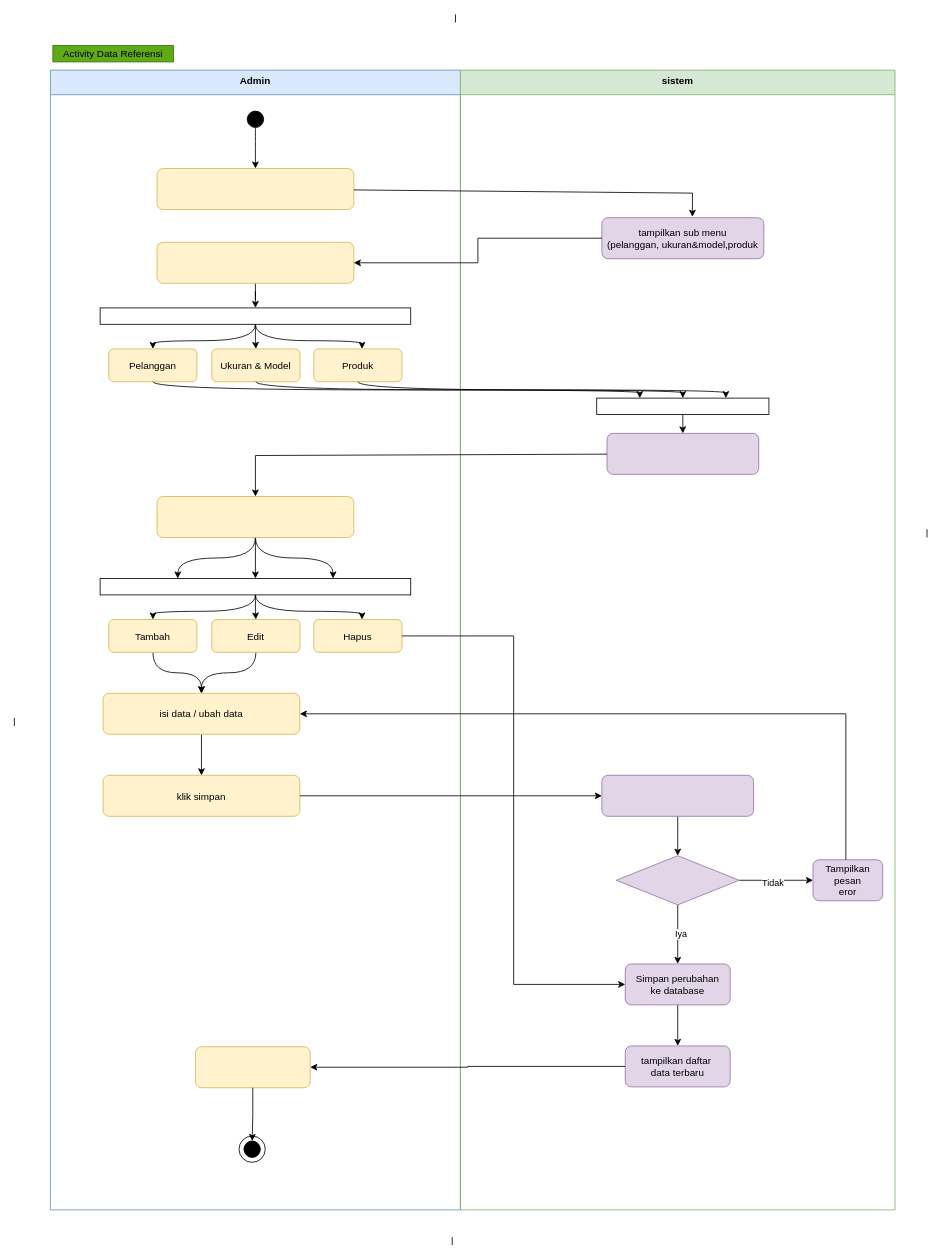
Some shapes in this 942 by 1260 pixel diagram are drawn without their labels. The shapes that lost their labels are listed below. From the top down, each one's centre as x and y in pixels, then its label:
point 255,189: buka menu data referensi
point 255,262: PIilh sub menu
point 682,453: tampilkan daftar data
point 255,517: pilih aksi (tambah,edit,hapus))
point 677,795: validasi data
point 677,880: data valid ?
point 252,1067: selesai
